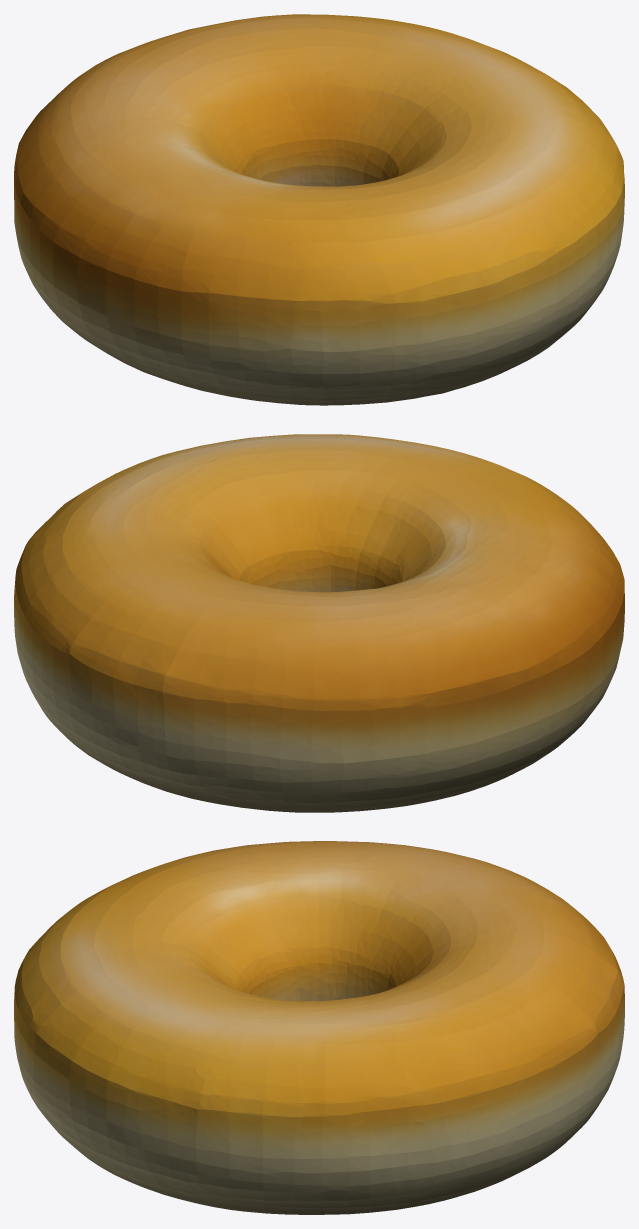
3 renders of one model, top to bottom at view 1: azimuth 30°, elevation 25°; view 2: azimuth 150°, elevation 25°; view 3: azimuth 270°, elevation 25°, orthographic.
Parts seen in each view (by area): view 1: world; view 2: world; view 3: world.
Part boxes in pixels (left/top/right/bottom): world: left=14, top=14, right=624, bottom=405; world: left=14, top=434, right=624, bottom=812; world: left=14, top=841, right=624, bottom=1214.
Size of the model in its own units: 0.9894 by 0.3626 by 0.9993.
Materials: 1 (1 with a texture image).
